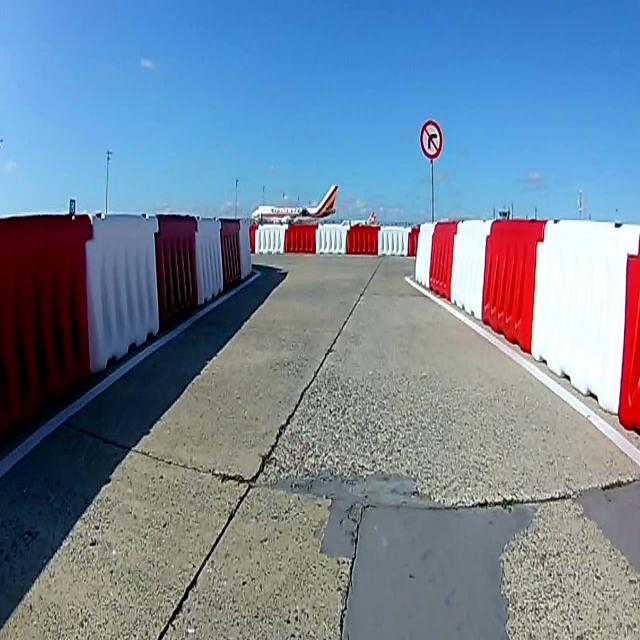sagadonulmez: (420, 118, 442, 158)
